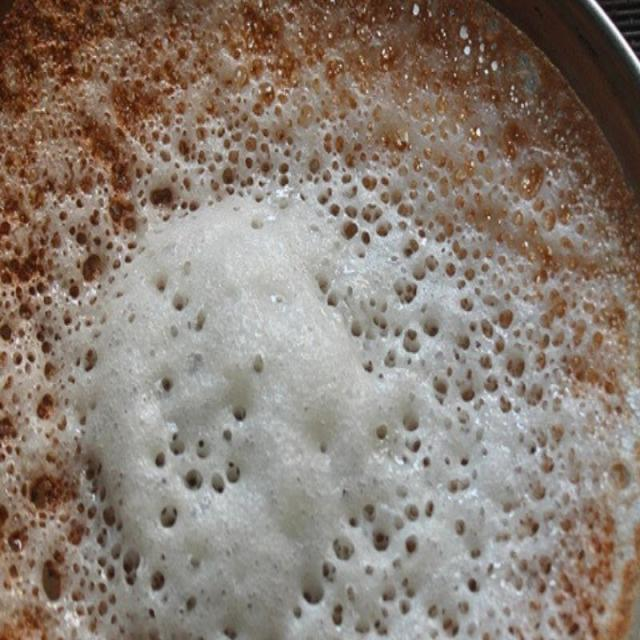appam: (3, 0, 640, 640)
